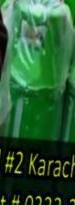cylinder: (1, 1, 75, 205)
